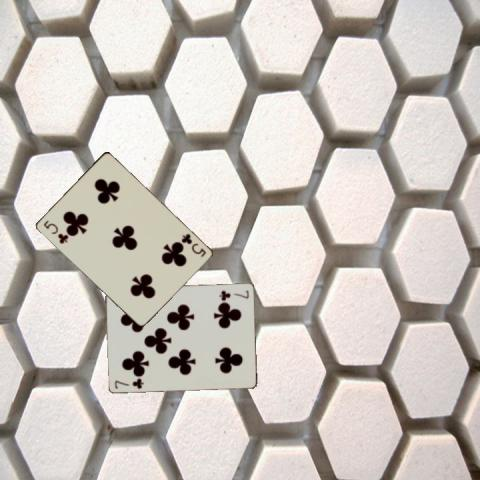5c: (40, 218, 69, 246), (178, 230, 207, 258)
7c: (112, 375, 145, 390), (216, 287, 250, 300)
